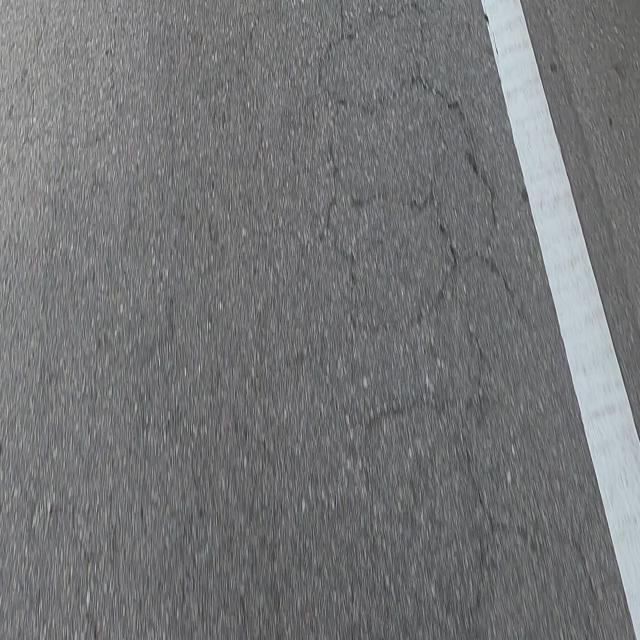Retak-Buaya: (316, 0, 517, 626)
